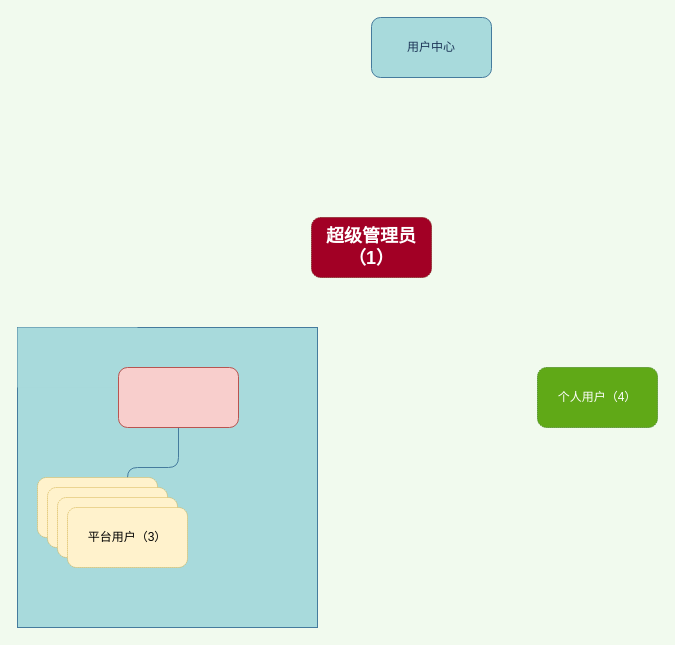
Image size: 675x645. Some labels were removed from this diagram. The shapes that lost their labels are listed below. From the top down, each one's centre as x and y in pixels, then its label:
At point (77, 357): "机构".
At point (178, 397): "管理员用户(2)".
